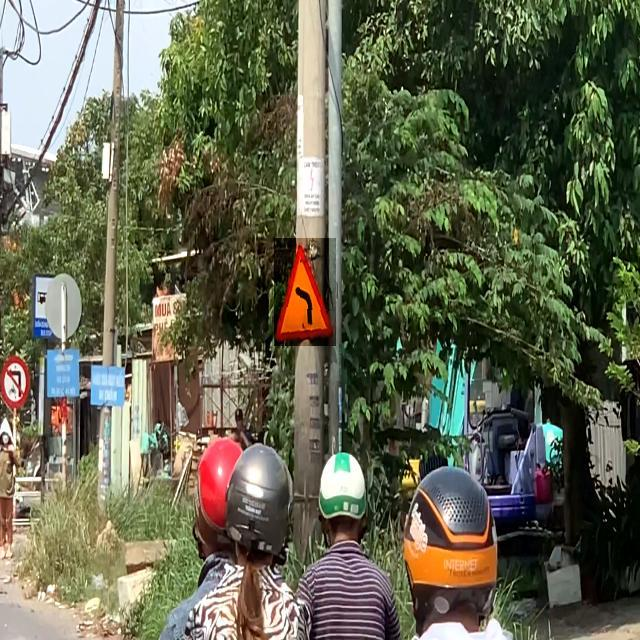W-201a: (274, 238, 336, 346)
